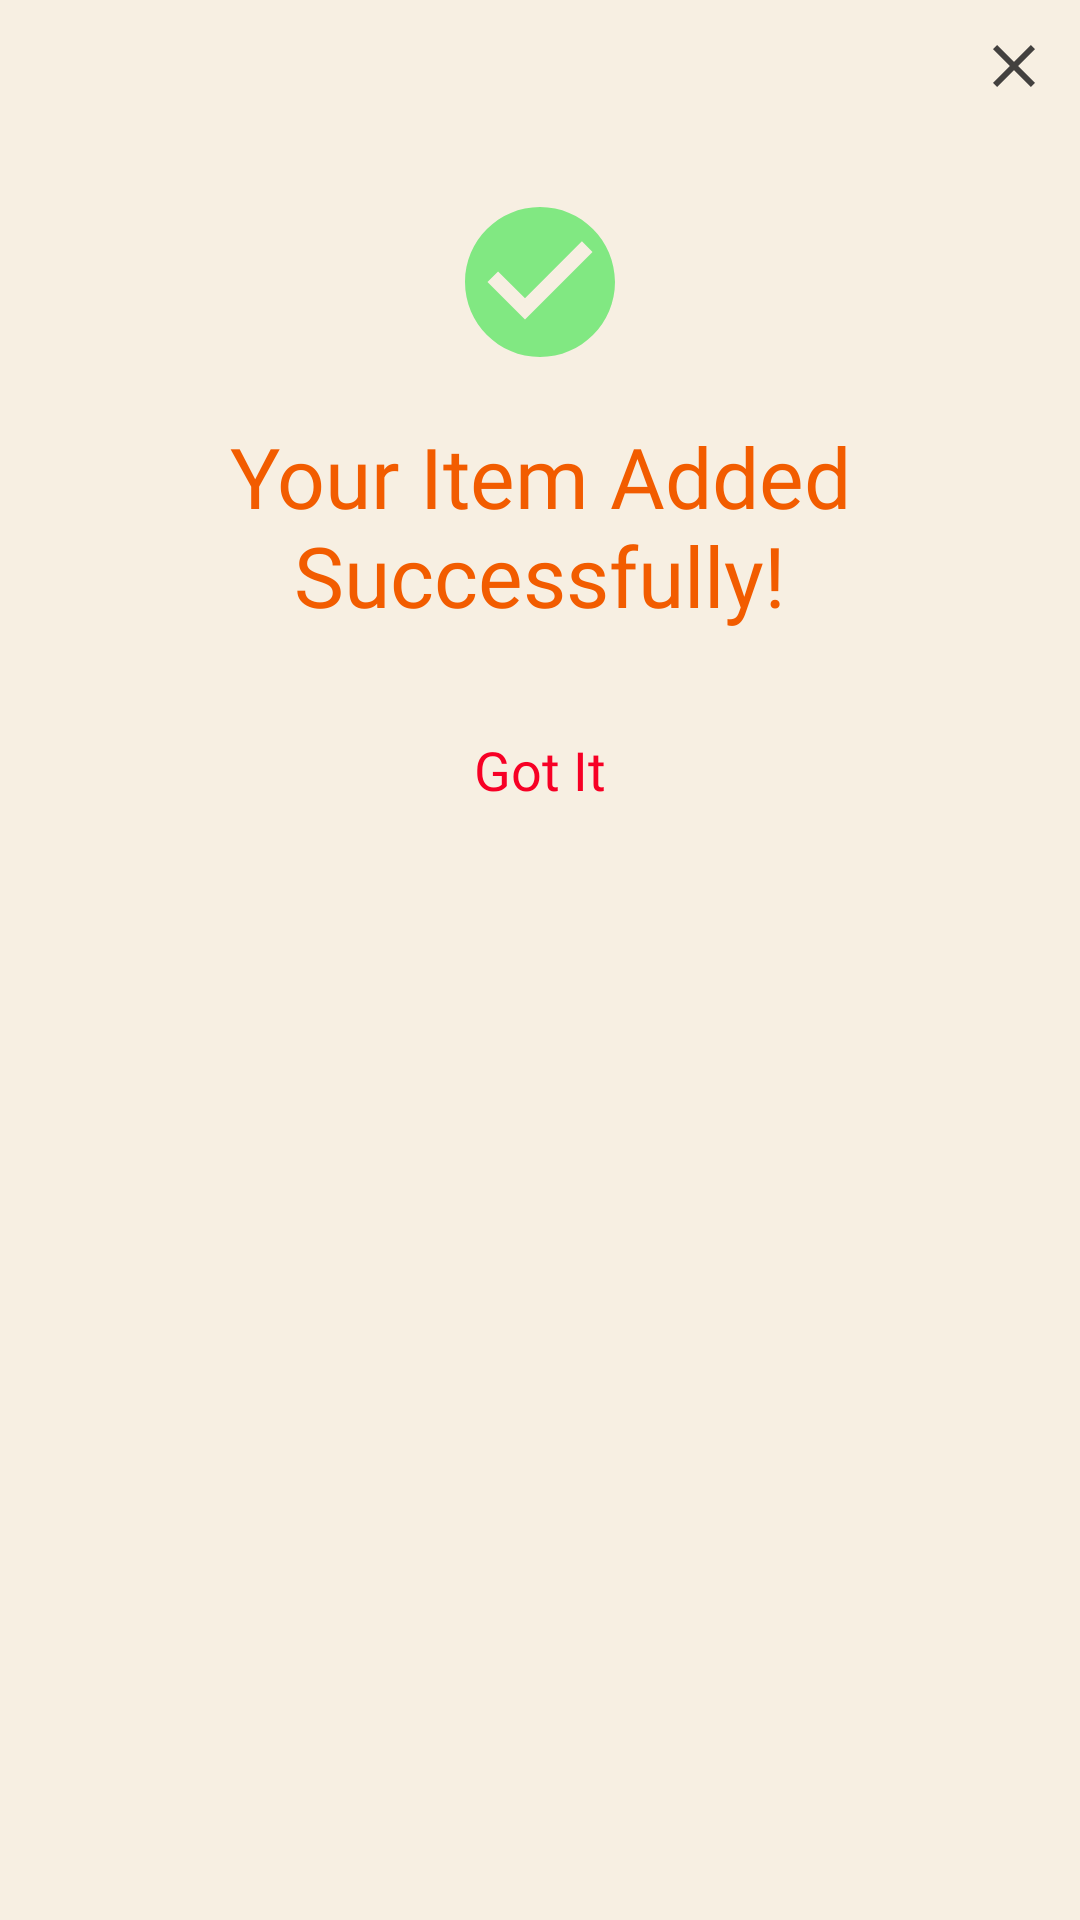

Icons on this 1080 x 1920 Android screen, each with the point to tap as (x,y):
check mark: (540,282)
close: (1014,66)
